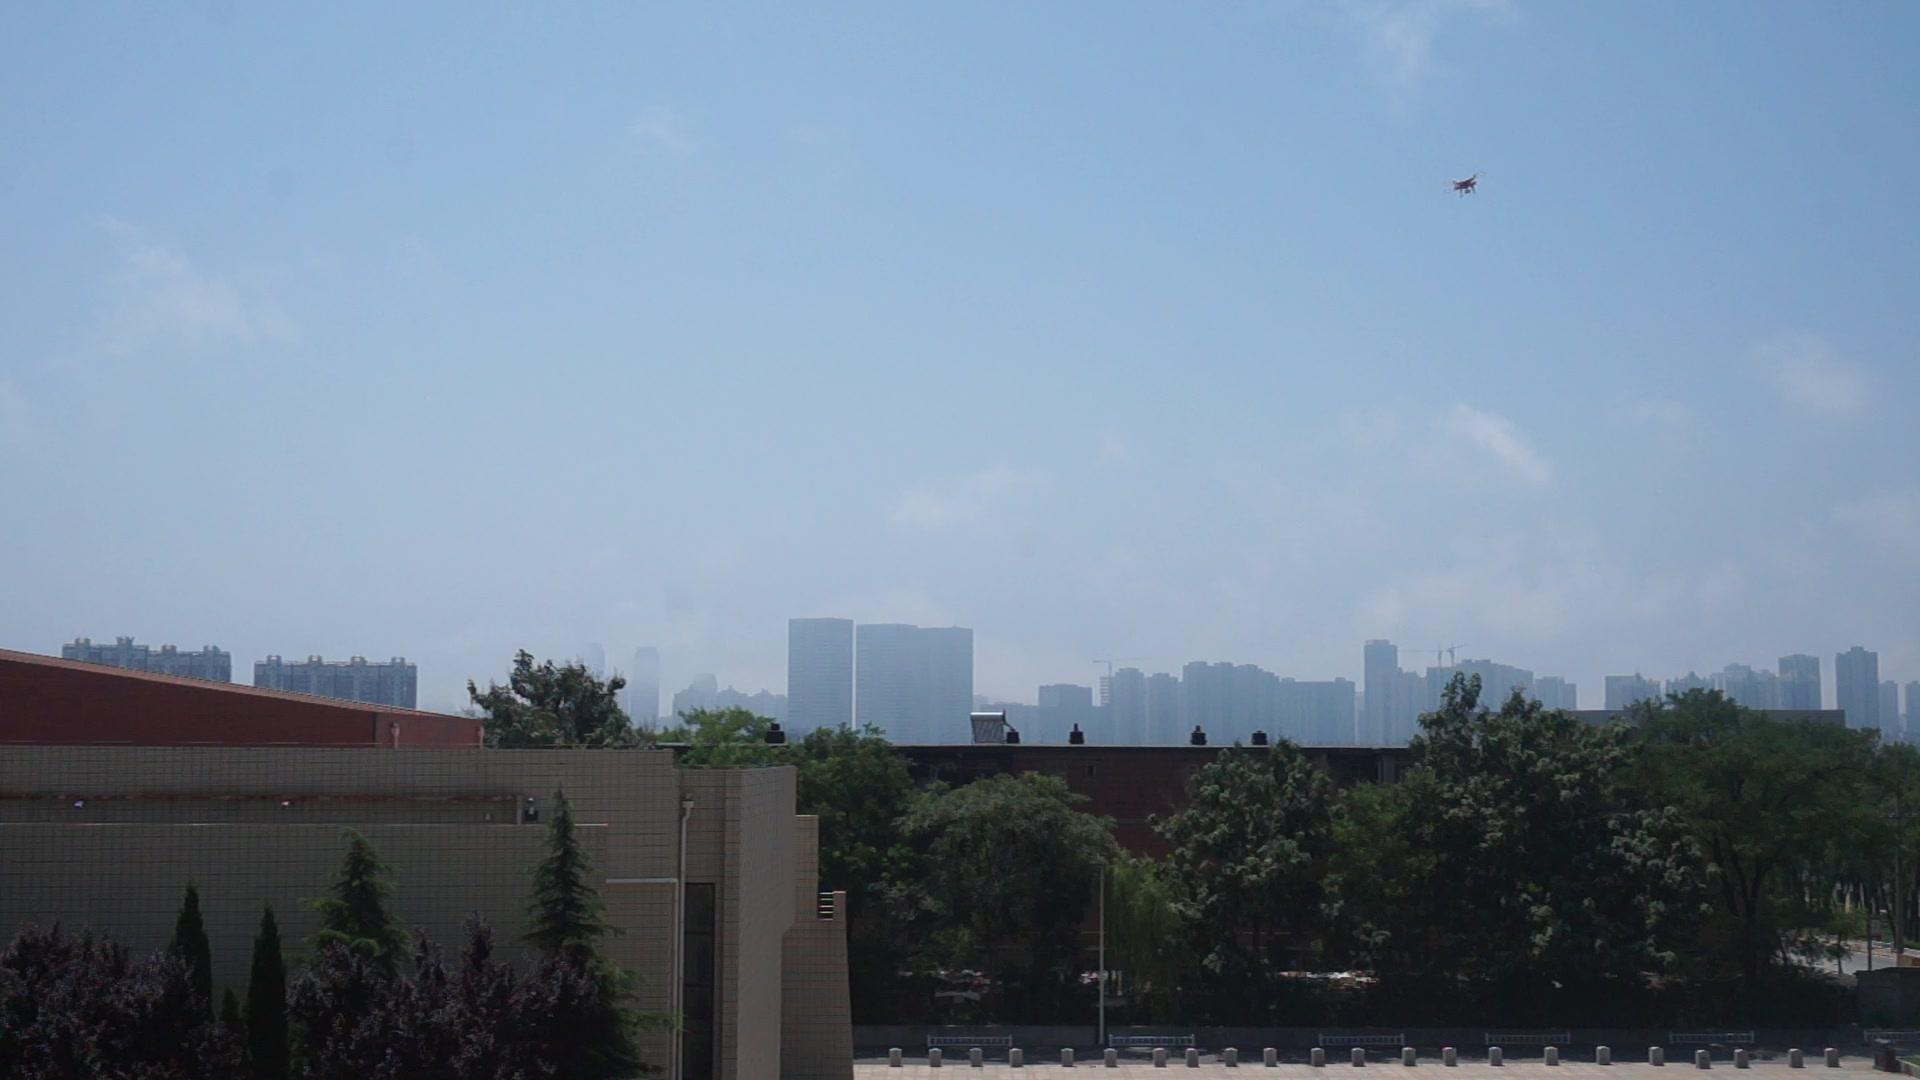UAV: (1445, 174, 1481, 200)
